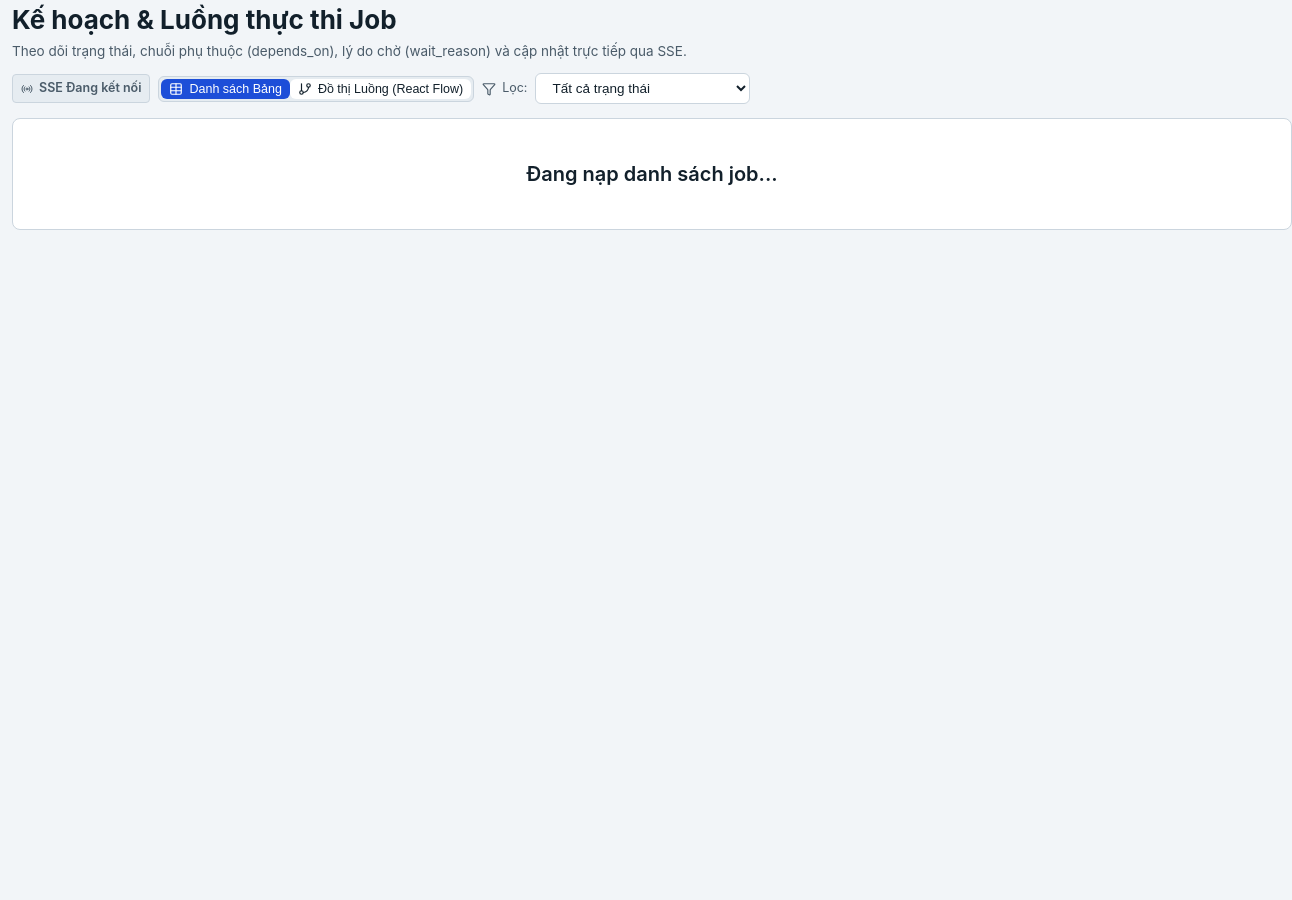
Test case: Ultron UI Reusable Components › renders non-empty React Flow MiniMap nodes in JobTableFlowScreen flow view (D7)
Click the button "Đồ thị Luồng (React Flow)": (380, 89) top-left (290, 79), bottom-right (471, 99)
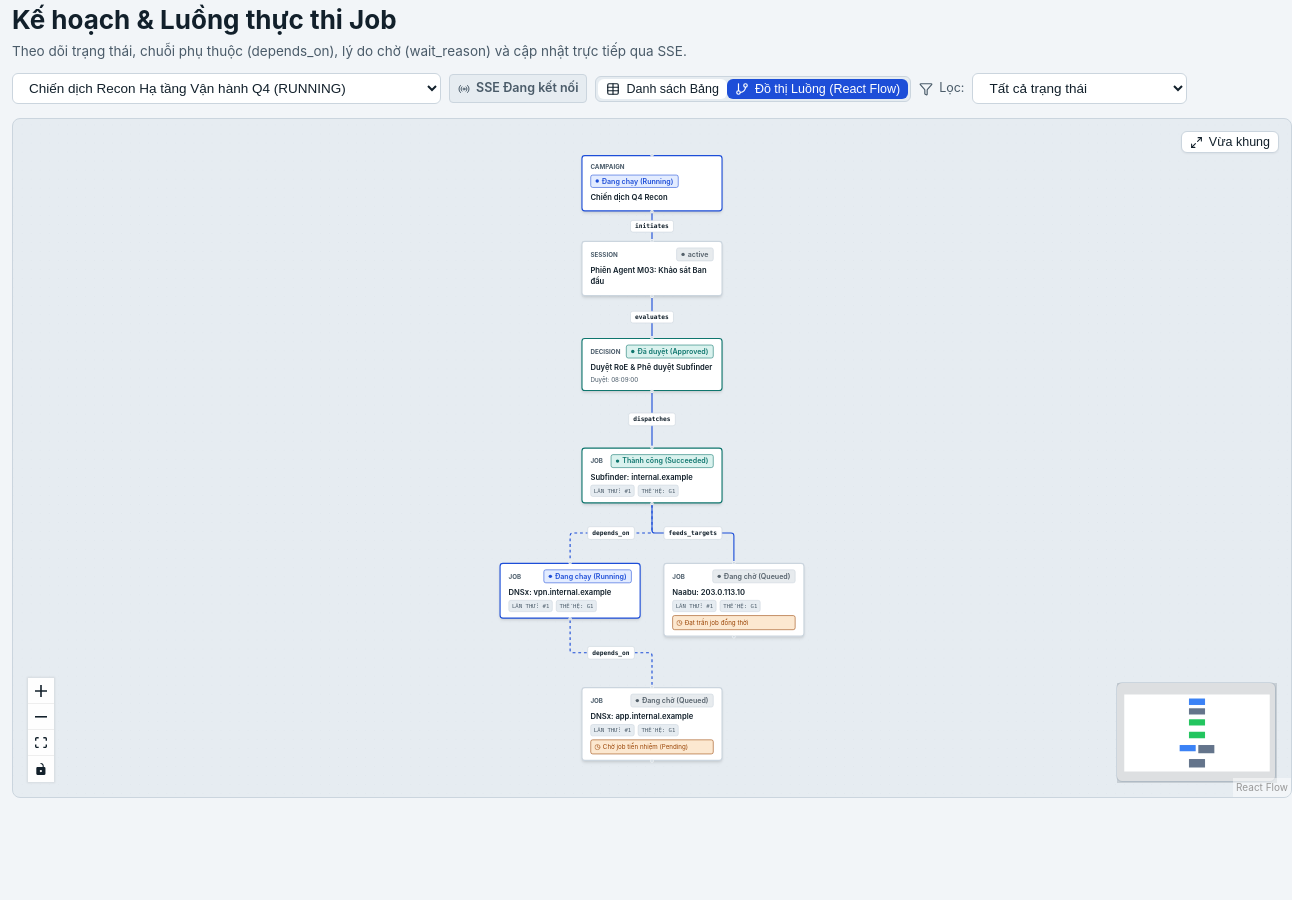
Expected: the element with class "react-flow__minimap-node" is shown, top-left (1189, 699), bottom-right (1205, 705)
Expected: the element with test id "rf__minimap" is shown, top-left (1116, 682), bottom-right (1276, 782)
